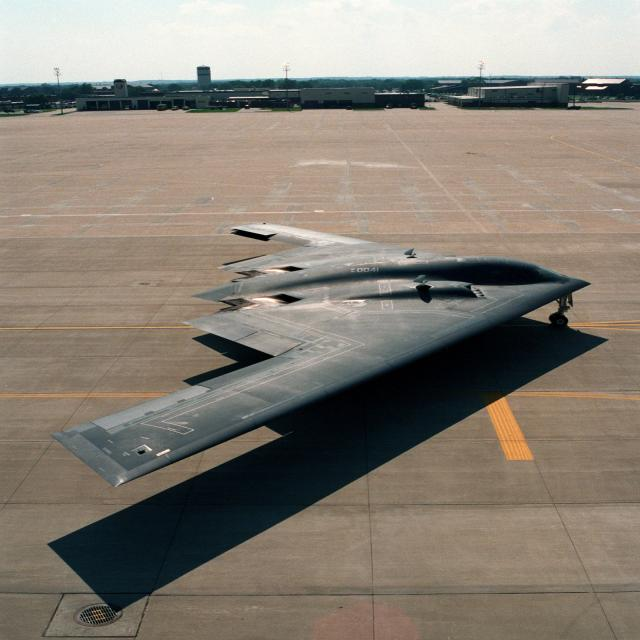MIL_Plane: (50, 222, 591, 488)
